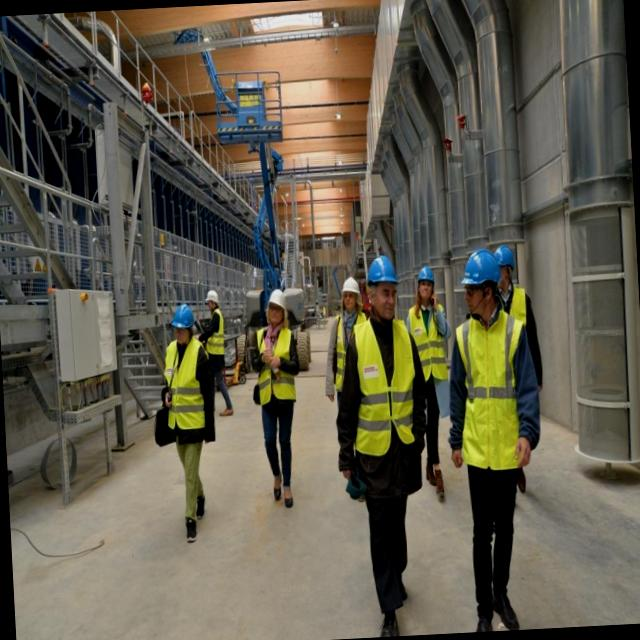helmet: (451, 239, 504, 304), (361, 253, 404, 296), (164, 292, 201, 334), (264, 284, 296, 321), (412, 267, 439, 298), (204, 284, 226, 315), (342, 273, 360, 306)
vest: (448, 308, 532, 482), (339, 308, 424, 478), (163, 328, 214, 444), (254, 323, 306, 428), (406, 302, 448, 388), (204, 300, 228, 368)
